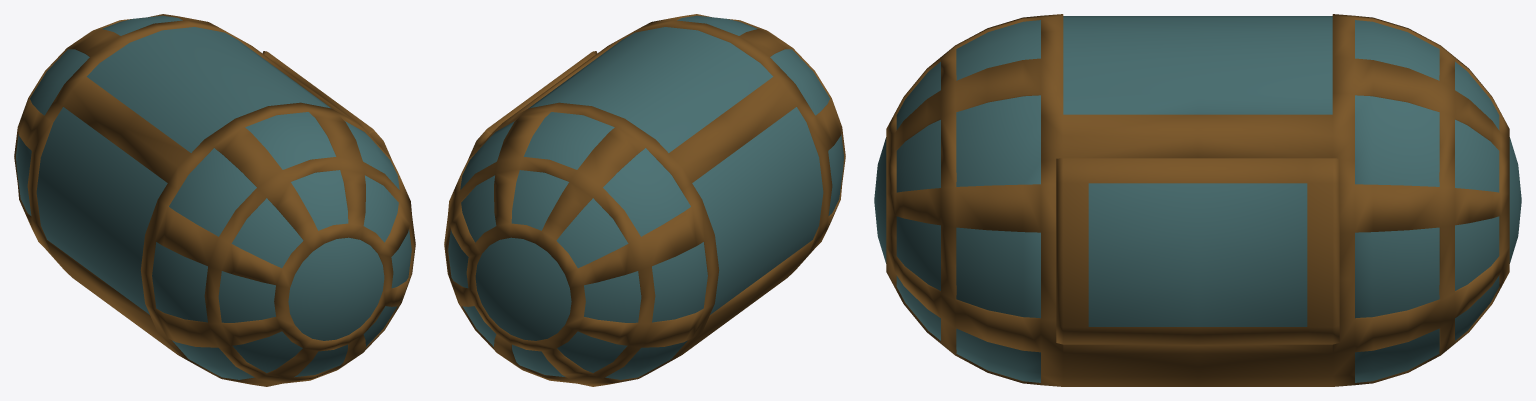
The model's file is mdl_transportCapsule.fbx.
3 renders of one model, left to right at view 1: azimuth 30°, elevation 25°; view 2: azimuth 150°, elevation 25°; view 3: azimuth 270°, elevation 25°, orthographic. The views are drawn at different scales.
Visible parts, largest first — view 1: mesh_transportCapsule, mesh_door; view 2: mesh_transportCapsule, mesh_door; view 3: mesh_transportCapsule, mesh_door.
Part boxes in pixels (bbox=[...]): mesh_transportCapsule: bbox=[14, 14, 415, 386]; mesh_door: bbox=[262, 51, 391, 158]; mesh_transportCapsule: bbox=[444, 14, 845, 386]; mesh_door: bbox=[468, 51, 597, 158]; mesh_transportCapsule: bbox=[874, 14, 1521, 386]; mesh_door: bbox=[1056, 158, 1339, 344].
Size of the model in its own units: 8.48 by 8.27 by 14.3.
